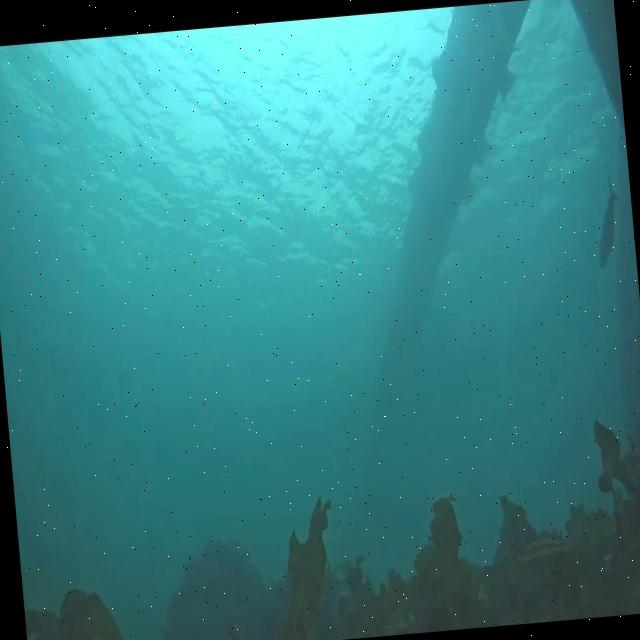fish: (590, 179, 624, 268), (514, 532, 566, 562)
